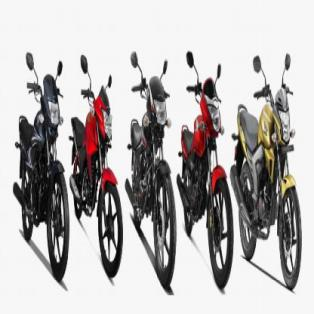Motocicleta: (236, 49, 304, 288), (12, 48, 73, 288), (121, 44, 179, 282), (179, 44, 235, 288), (70, 45, 125, 282)
